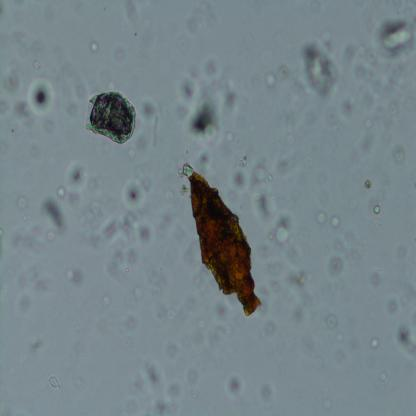Background material: (337, 42, 416, 145), (260, 244, 312, 316), (86, 89, 138, 146), (302, 40, 342, 103), (196, 297, 238, 354), (98, 212, 156, 249), (134, 89, 160, 159), (9, 214, 47, 257), (110, 249, 142, 299), (18, 269, 52, 313), (191, 99, 222, 145), (375, 22, 416, 56), (331, 230, 366, 269), (182, 0, 223, 31), (144, 385, 184, 416), (28, 73, 54, 115), (42, 195, 67, 235), (148, 258, 171, 298), (115, 311, 142, 345), (78, 198, 97, 245), (178, 68, 200, 108), (122, 0, 146, 35), (274, 210, 296, 244), (122, 178, 146, 209), (144, 359, 164, 396), (15, 96, 37, 128), (155, 306, 180, 334), (396, 324, 416, 358), (223, 76, 240, 116), (66, 160, 90, 188), (232, 164, 250, 197), (250, 382, 273, 406), (192, 145, 212, 172), (226, 371, 245, 399), (62, 260, 81, 286), (271, 61, 291, 85), (0, 65, 19, 90), (258, 193, 274, 222), (12, 190, 35, 210), (327, 253, 344, 280), (162, 345, 186, 363), (387, 289, 403, 316), (391, 142, 409, 164), (62, 102, 84, 119), (46, 371, 63, 391), (325, 310, 339, 333), (376, 364, 391, 384), (29, 333, 43, 354), (265, 69, 278, 90), (334, 346, 349, 364), (41, 118, 55, 137), (368, 265, 382, 284), (329, 212, 342, 231), (225, 125, 238, 144), (369, 334, 381, 351), (237, 148, 247, 165), (316, 210, 326, 226), (29, 148, 42, 160), (102, 294, 113, 307), (32, 59, 42, 73), (90, 41, 101, 53), (373, 204, 384, 216), (58, 186, 66, 198), (364, 179, 372, 190)
Fragment: (181, 162, 262, 318)
